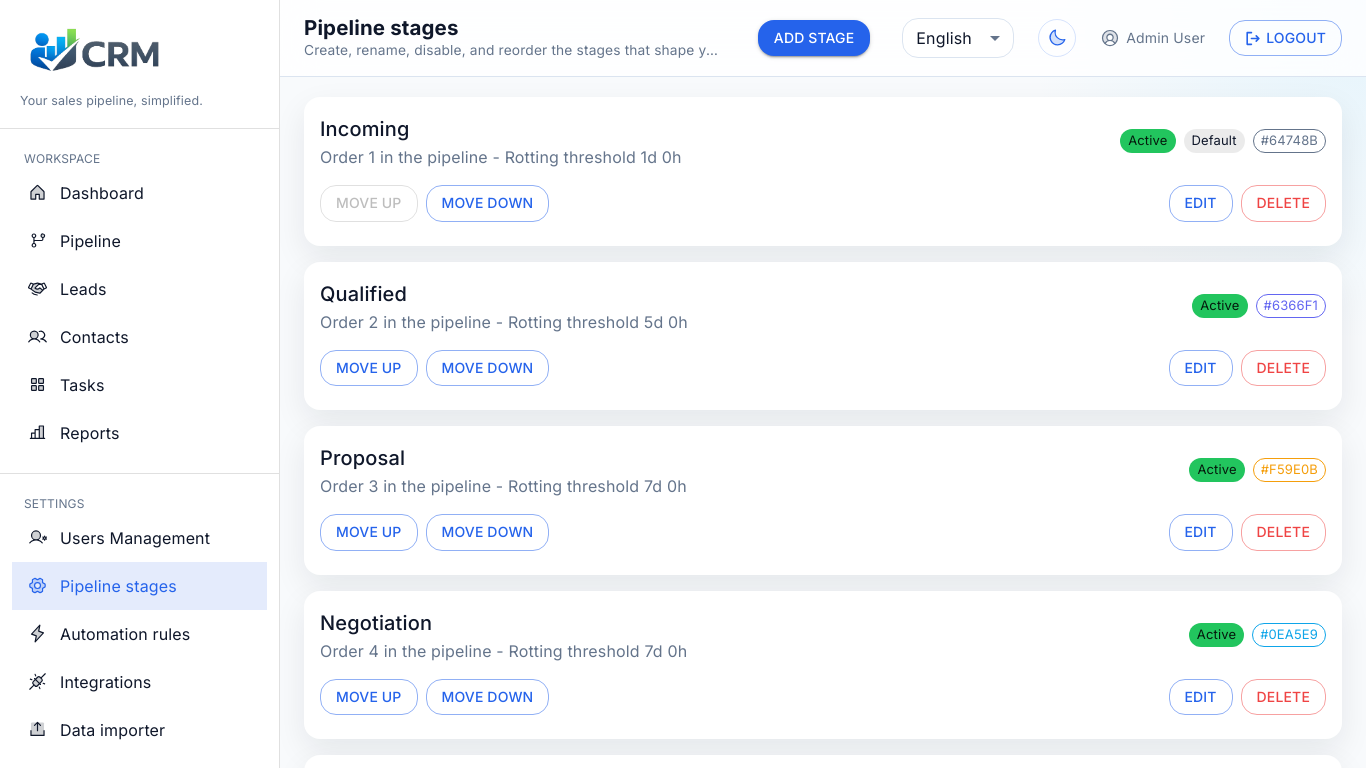
Scenario: Pipeline feature › edits a stage successfully
Expected: the heading "Pipeline stages" is shown, [304,15,459,40]
Click the button "Edit" below "Default" at (1201, 203), box [1168,185,1233,222]
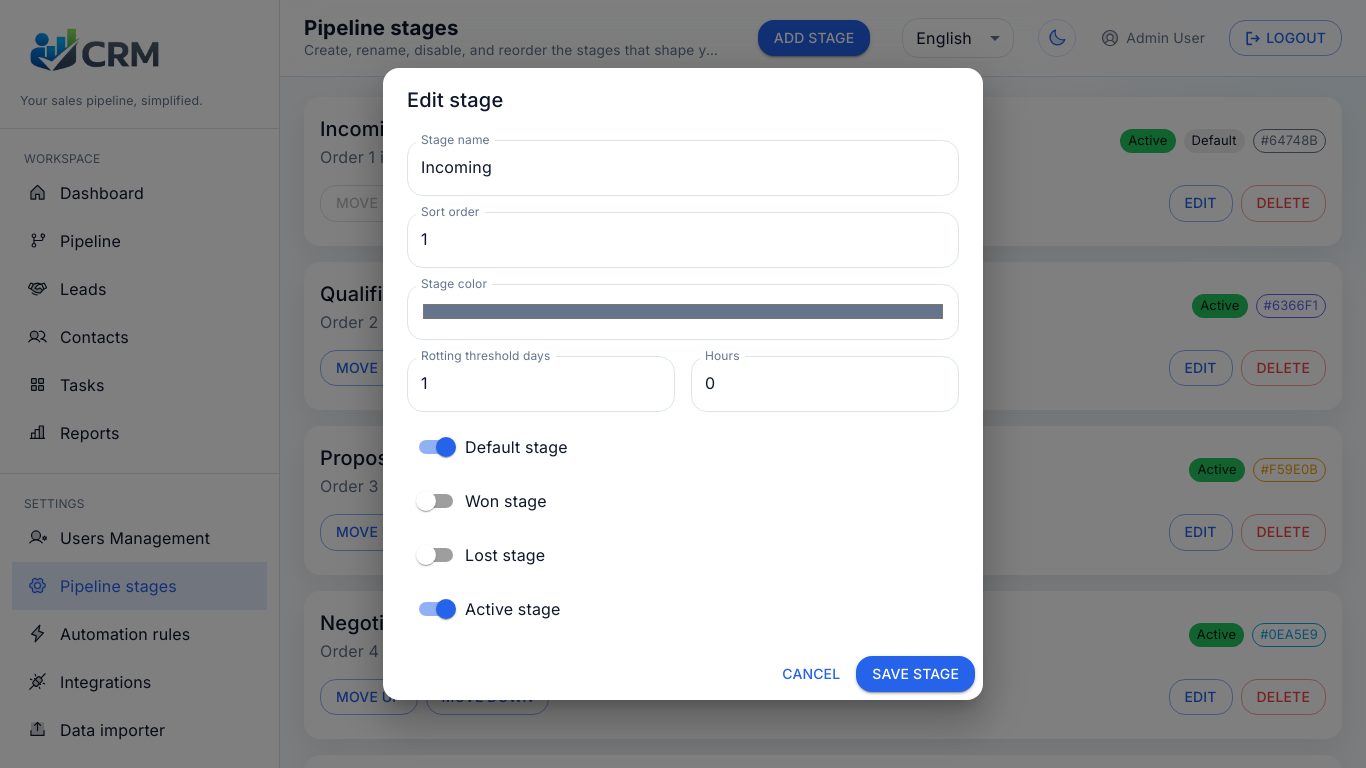
Replace the text in the field labelled "Stage name" with "Inbound" at (683, 168), box [407,140,959,196]
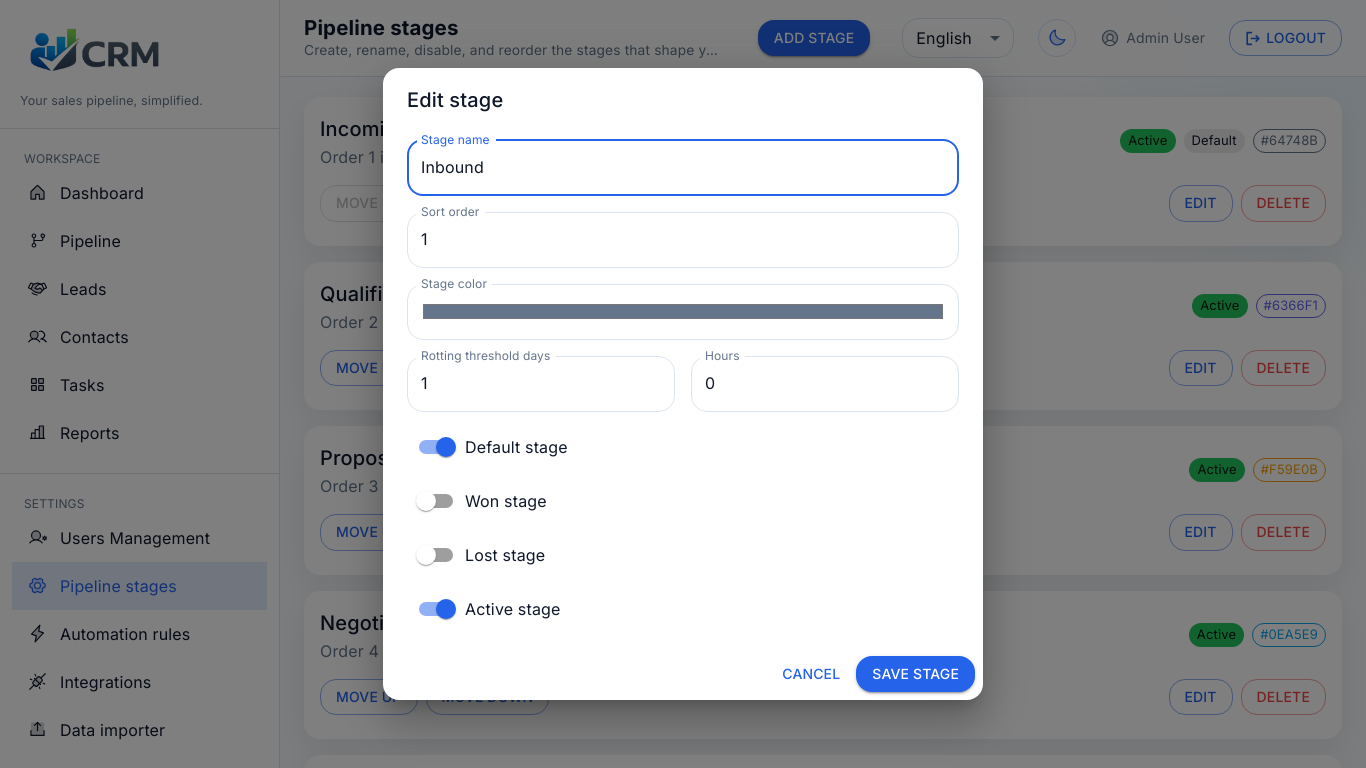
Click the button "Save stage" at (916, 674), box [856,656,975,692]
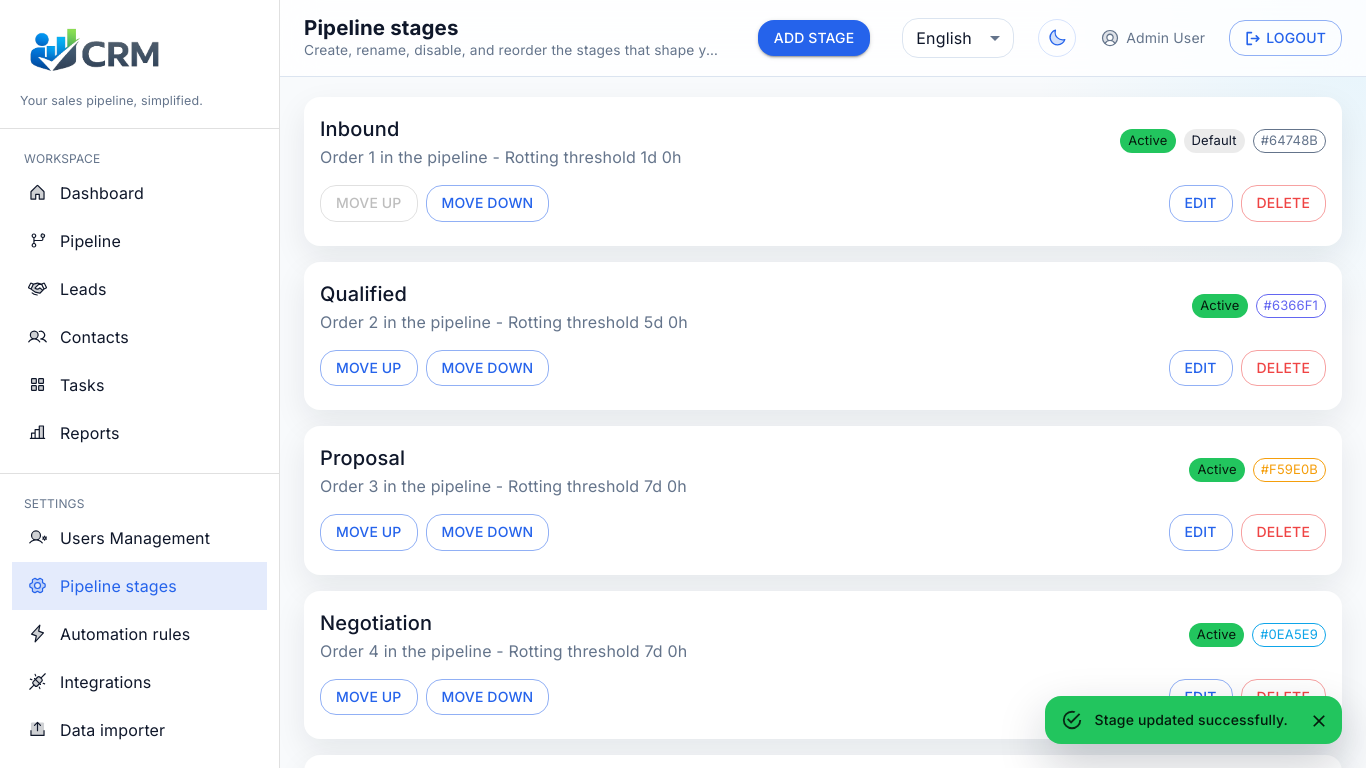
Expected: the text "Stage updated successfully." is shown, [1094,711,1288,728]
Expected: the heading "Inbound" is shown, [320,117,399,141]
